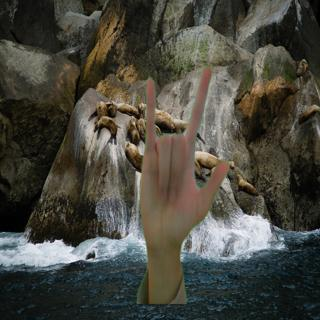ILY: (137, 64, 233, 259)
